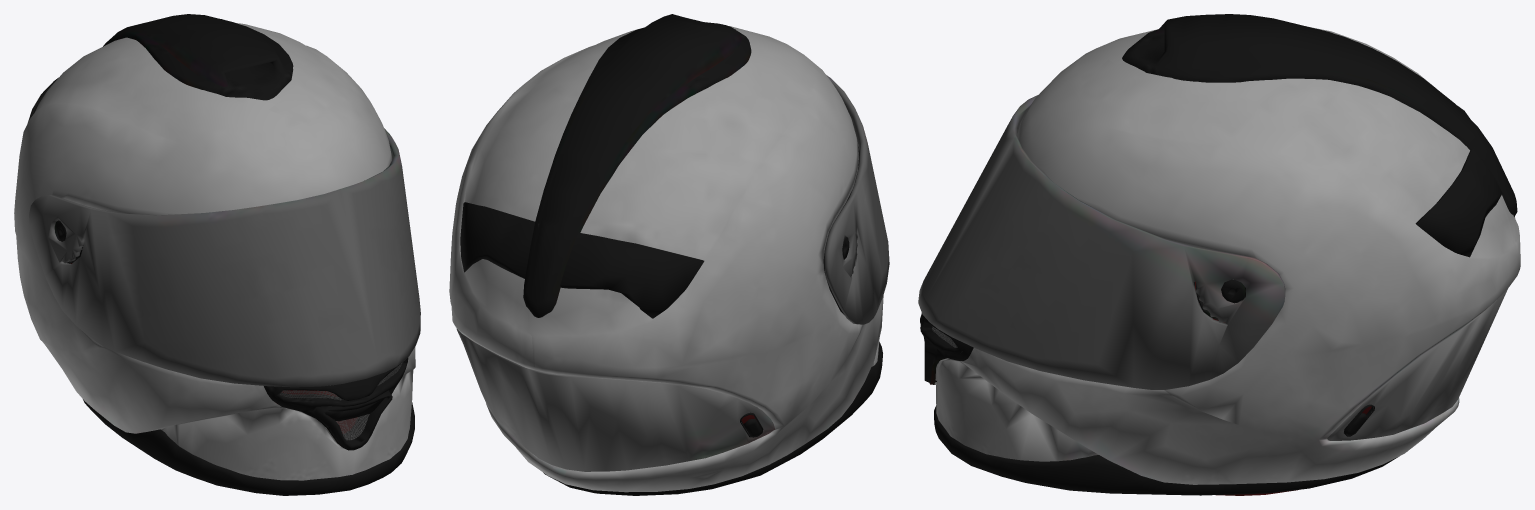
The model's file is moto-helmet.glb.
3 renders of one model, left to right at view 1: azimuth 30°, elevation 25°; view 2: azimuth 150°, elevation 25°; view 3: azimuth 270°, elevation 25°, orthographic. The views are drawn at different scales.
Visible parts, largest first — view 1: MotoHelmet; view 2: MotoHelmet; view 3: MotoHelmet.
Boxes of the visible parts, box(x1,y1,x2,y2) form: MotoHelmet: box(14, 14, 420, 495); MotoHelmet: box(449, 14, 889, 495); MotoHelmet: box(918, 14, 1520, 495).
Bounding box in the file's own units: 1.45 × 1.51 × 2.
Materials: 1 (1 with a texture image).
